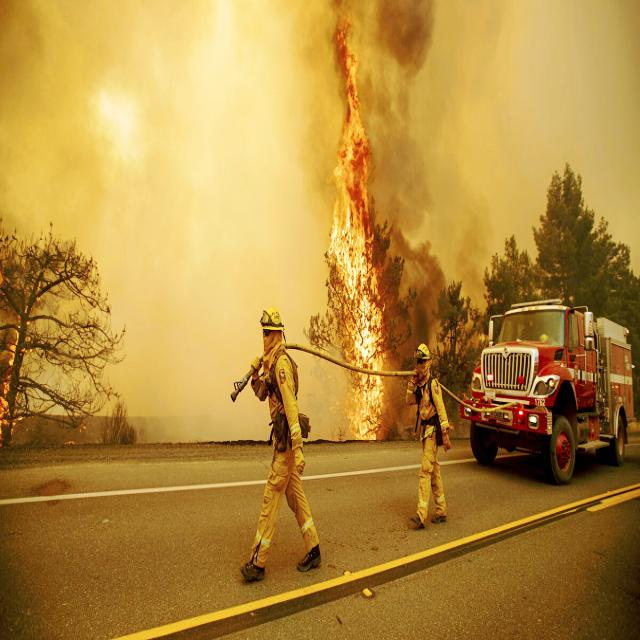api: (326, 40, 385, 445)
asap: (1, 5, 322, 242), (388, 2, 511, 245), (116, 224, 263, 412), (513, 3, 639, 203), (139, 411, 272, 455)
